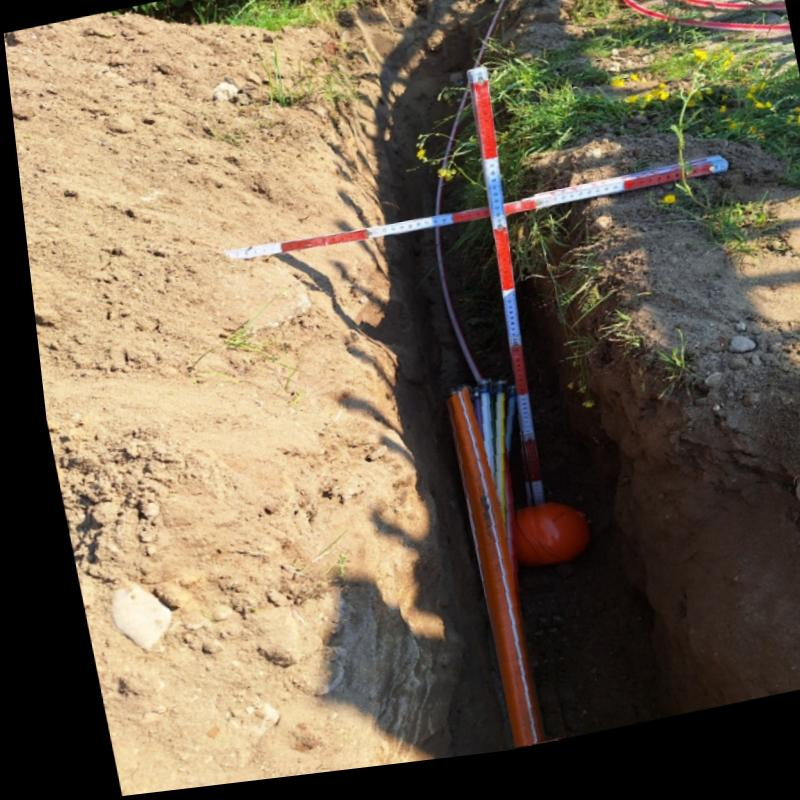Kugelmarker: (508, 517, 575, 576)
Orang-Speednetrohrchen: (435, 390, 527, 758)
